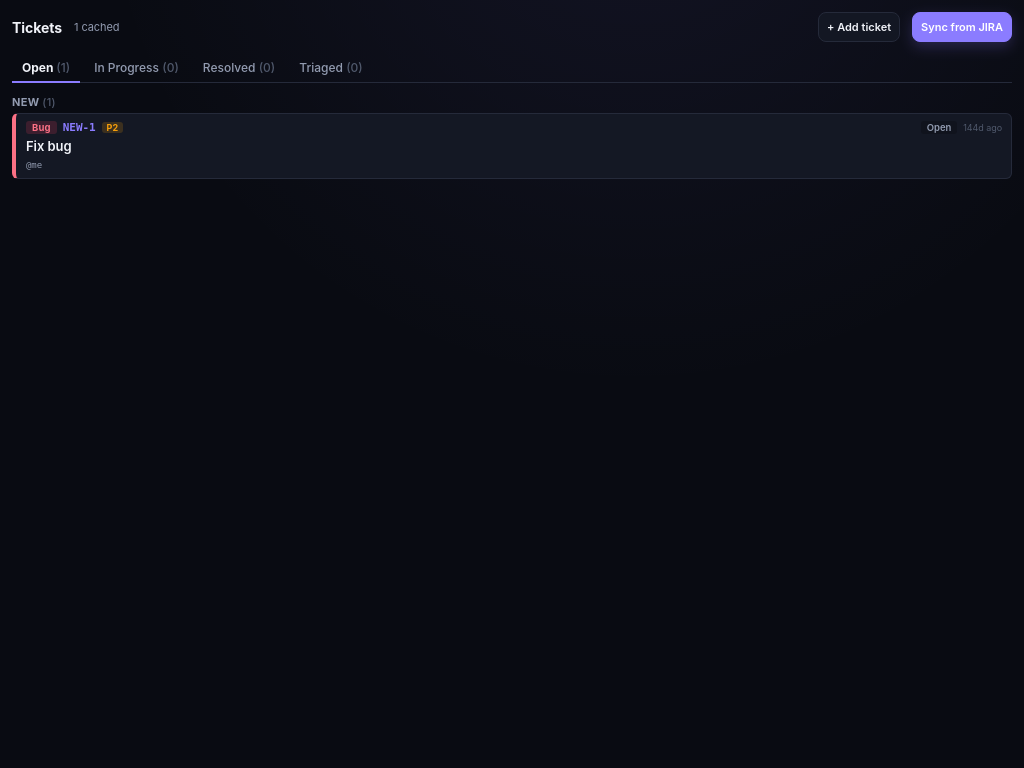
Test: TicketsPage › hides SessionCard when no tmux session exists; only the Open button is shown
Click the element with test id "ticket-row-NEW-1": {"x": 512, "y": 146} [12,113,1012,178]
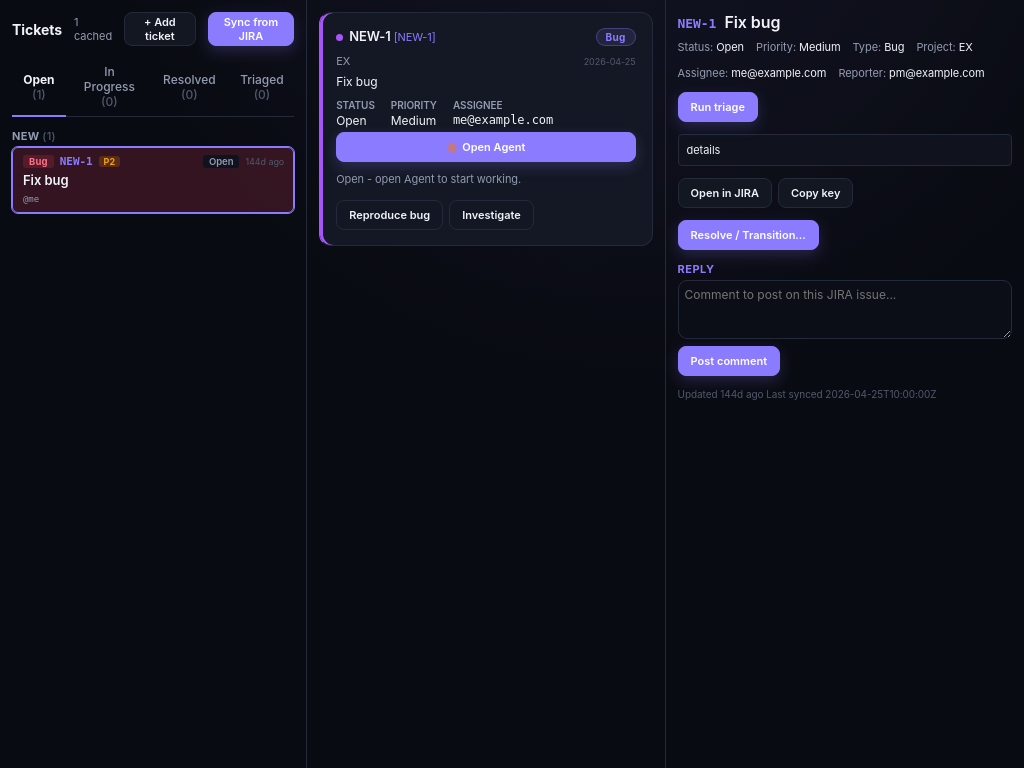
Expected: the button with test id "ticket-open-session" is shown, [336,132,636,162]
